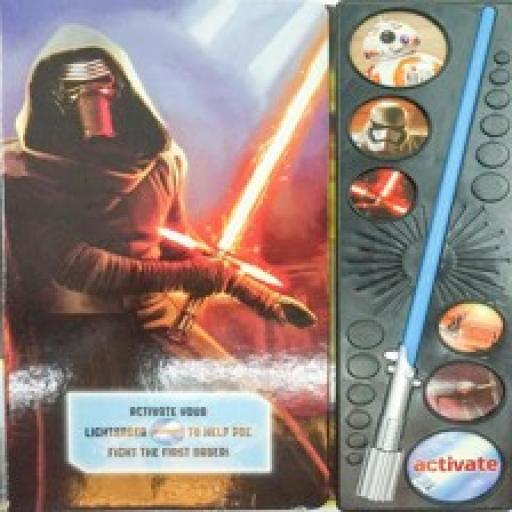lightsaber: (359, 5, 501, 502), (155, 24, 330, 343)
